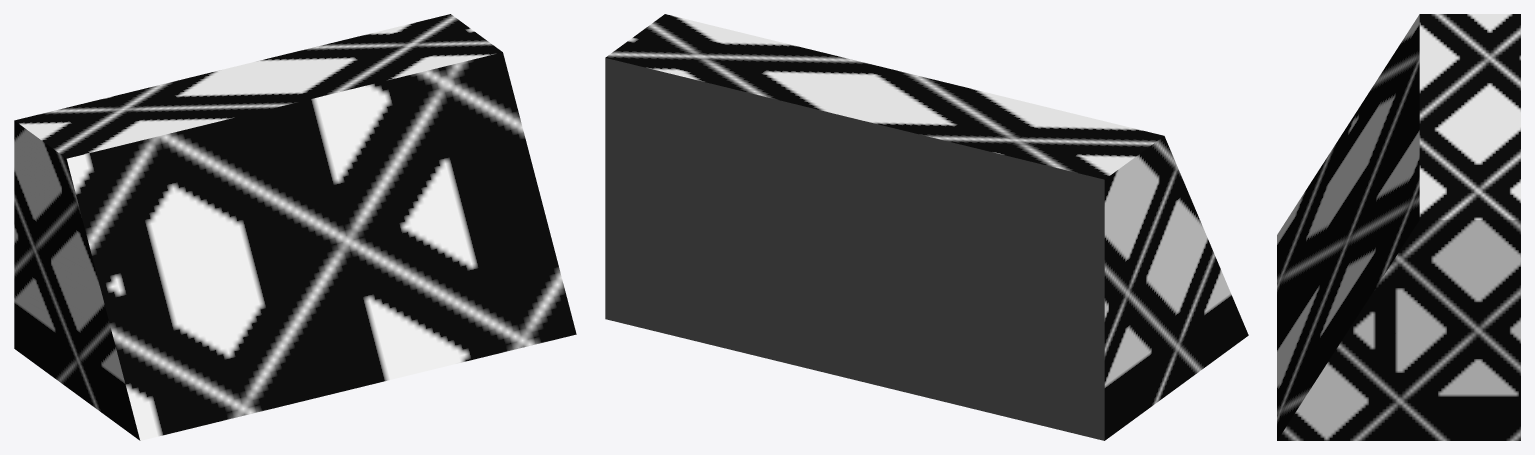
File: ballNet.gltf
3 views of the same model, side by side, from view 1: azimuth 30°, elevation 25°; view 2: azimuth 150°, elevation 25°; view 3: azimuth 270°, elevation 25° (orthographic). The views are drawn at different scales.
Parts seen in each view (by area): view 1: 立方体; view 2: 立方体; view 3: 立方体.
Boxes of the visible parts, x1,y1,x2,y2 form: 立方体: [14, 14, 576, 440]; 立方体: [605, 14, 1248, 440]; 立方体: [1277, 14, 1520, 440].
Size of the model in its own units: 10 by 5 by 5.
2 materials, 1 textured.
